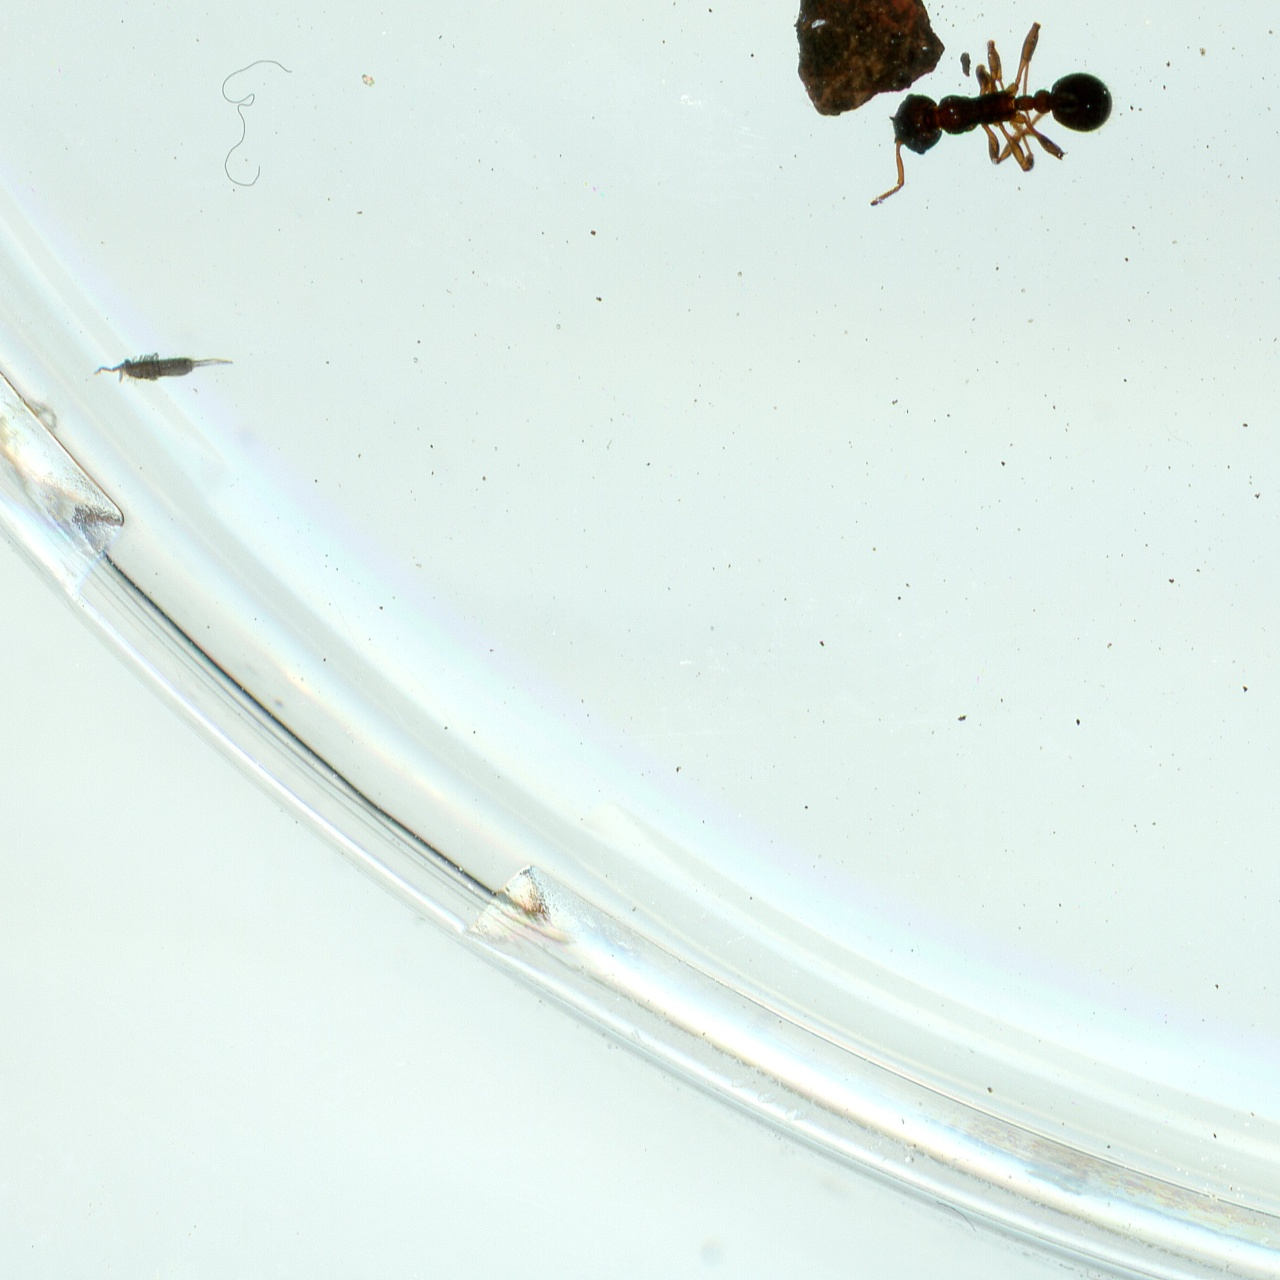arthropod: (835, 7, 1130, 218), (82, 341, 237, 388)
